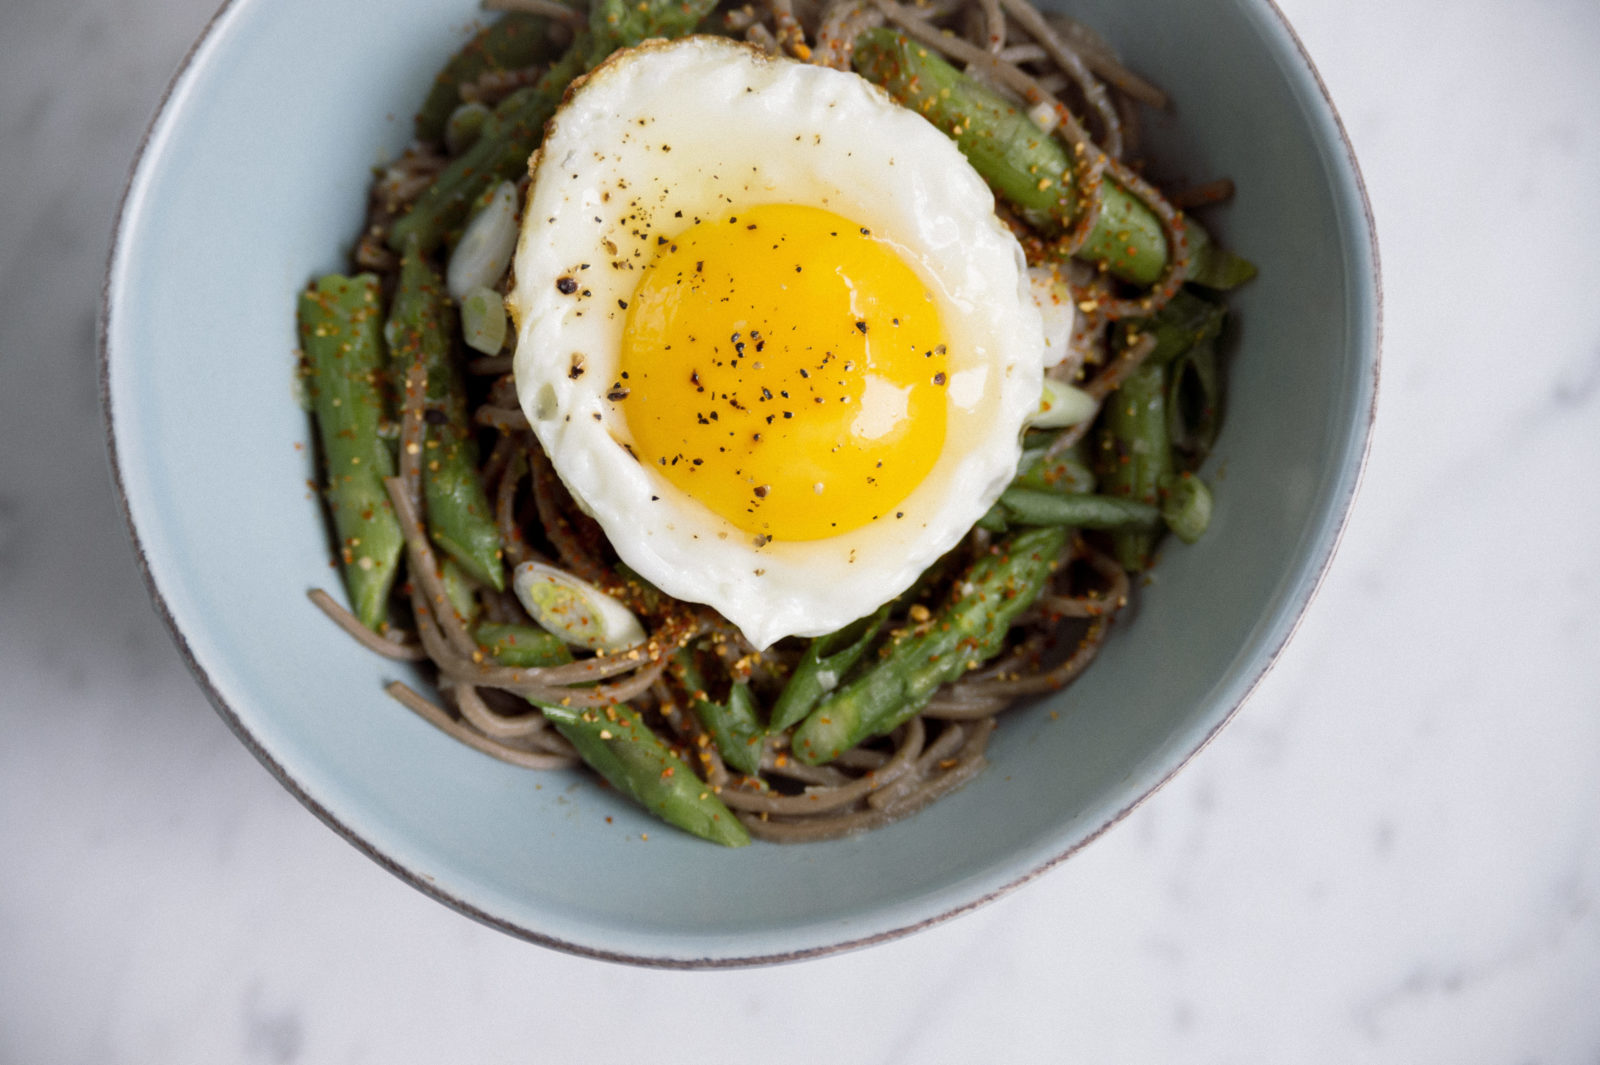Soba: (355, 11, 1390, 876)
